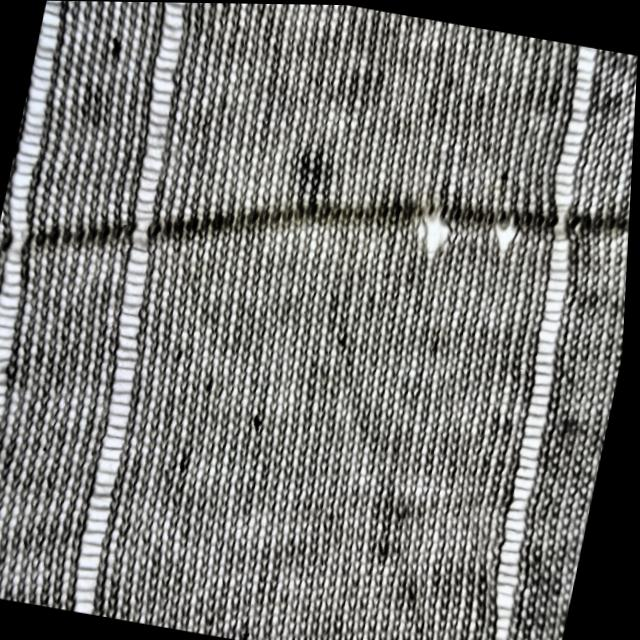Hole: (397, 204, 469, 264), (287, 136, 345, 206), (485, 206, 534, 262)
Stitch: (32, 1, 233, 617), (444, 40, 639, 640), (0, 0, 109, 596)
